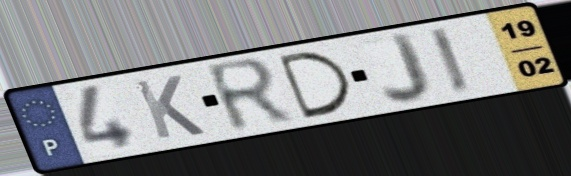4: (78, 82, 138, 155)
D: (273, 48, 356, 122)
I: (424, 24, 476, 98)
J: (379, 31, 436, 106)
K: (130, 73, 209, 142)
R: (201, 55, 300, 137)
